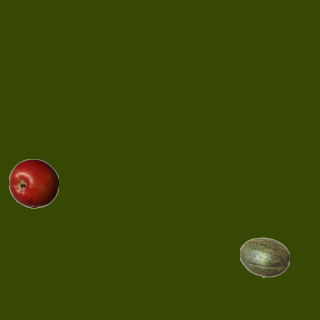Apple Braeburn: (8, 158, 58, 208)
Melon Piel de Sapo: (239, 232, 289, 282)
